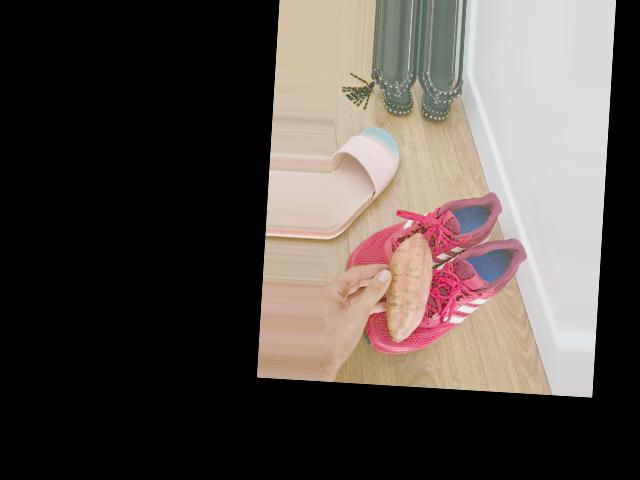sweet_potato: (383, 231, 435, 344)
